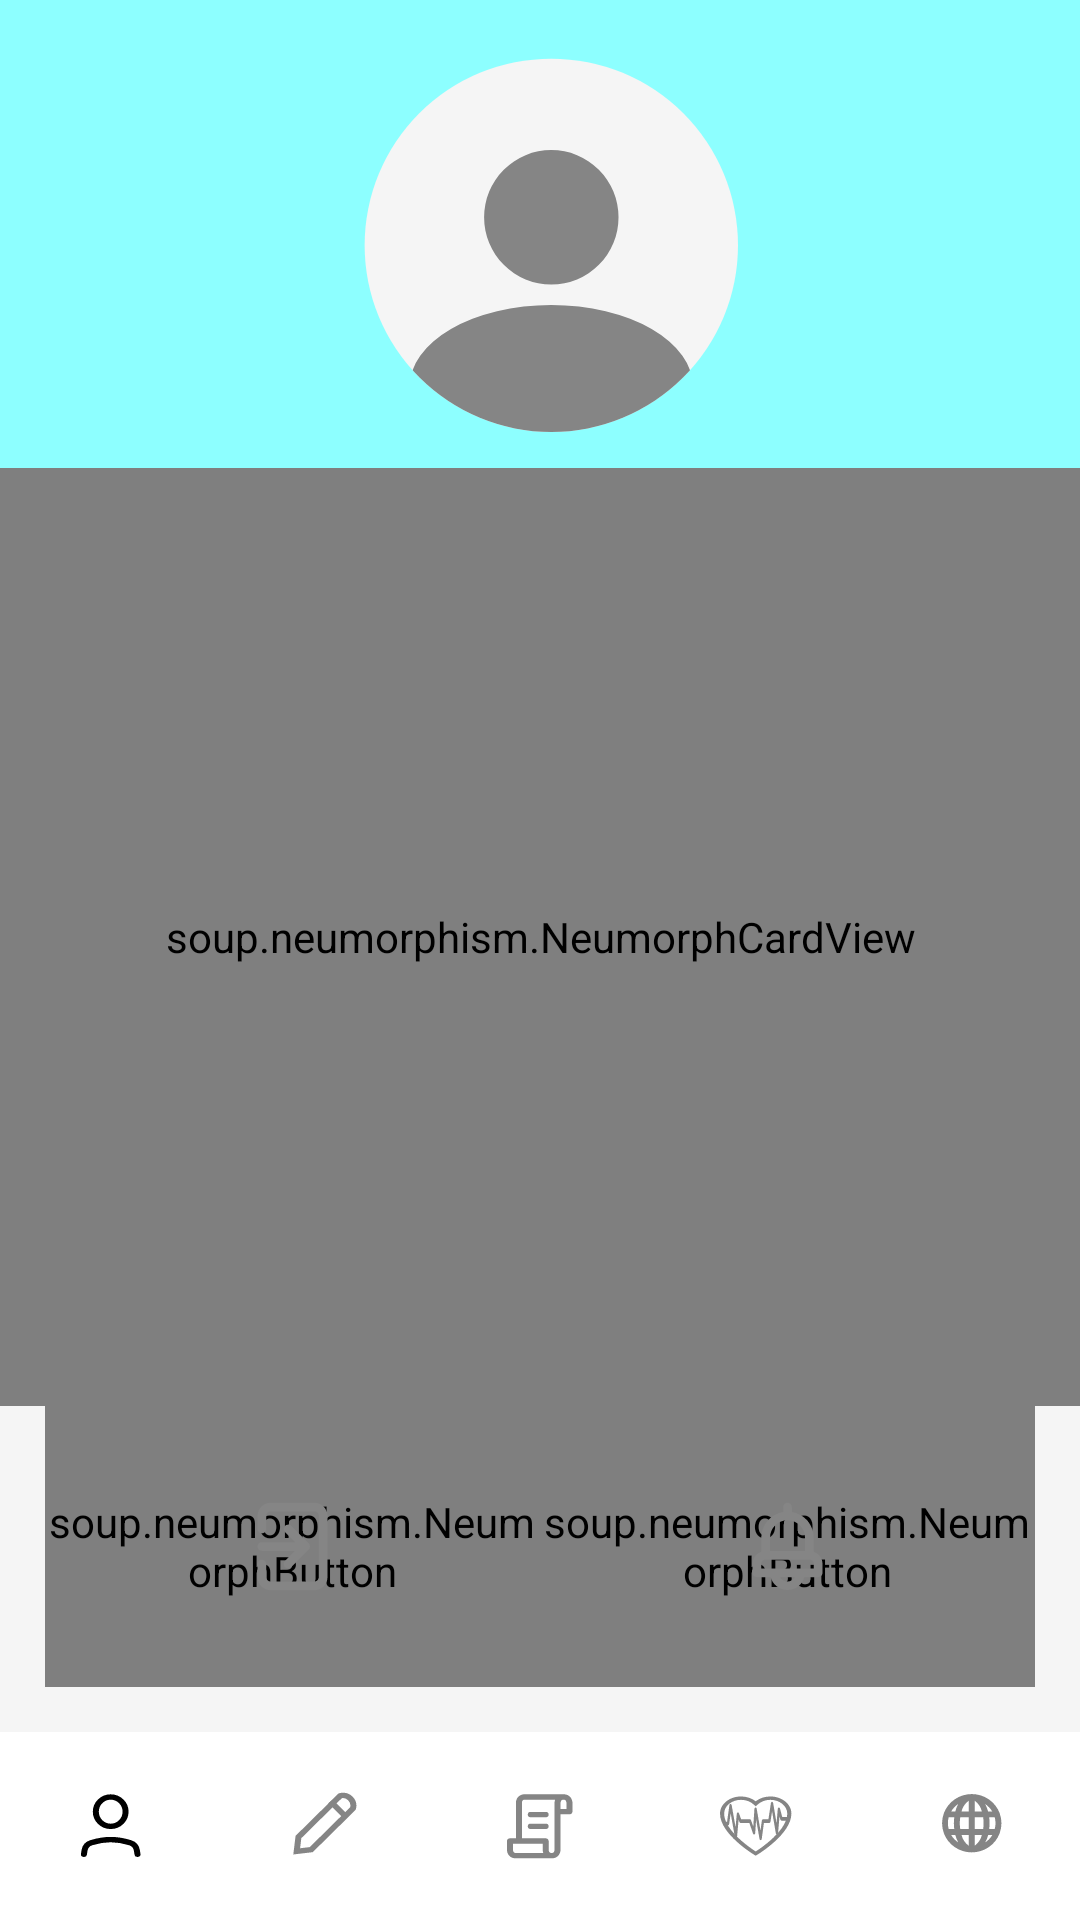

Where icons sit on this 1080 x 1920 app screen, as {"left": x1, "top": y1, "right": x2, "bottom": y2}:
edit: {"left": 293, "top": 1792, "right": 357, "bottom": 1855}
heart: {"left": 720, "top": 1796, "right": 792, "bottom": 1856}
profile: {"left": 81, "top": 1794, "right": 141, "bottom": 1857}
scroll: {"left": 507, "top": 1794, "right": 573, "bottom": 1859}
